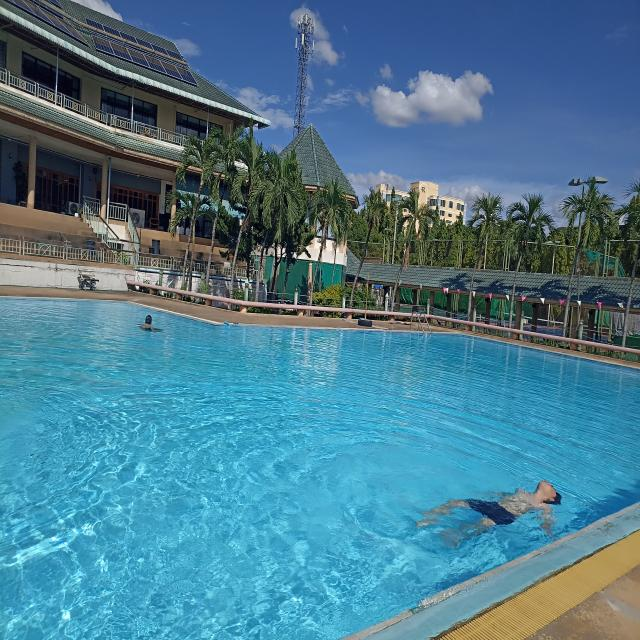Swimming: (414, 477, 565, 545), (132, 310, 163, 336)
